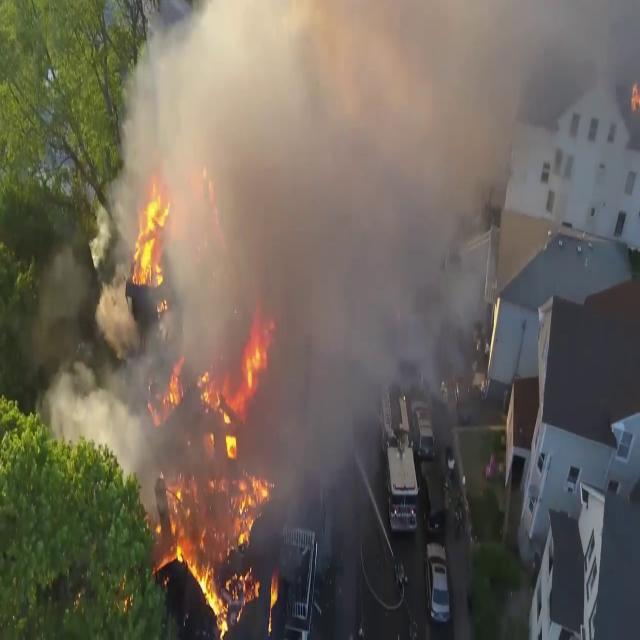Fire: (130, 180, 174, 290)
Smoke: (123, 0, 531, 459)
